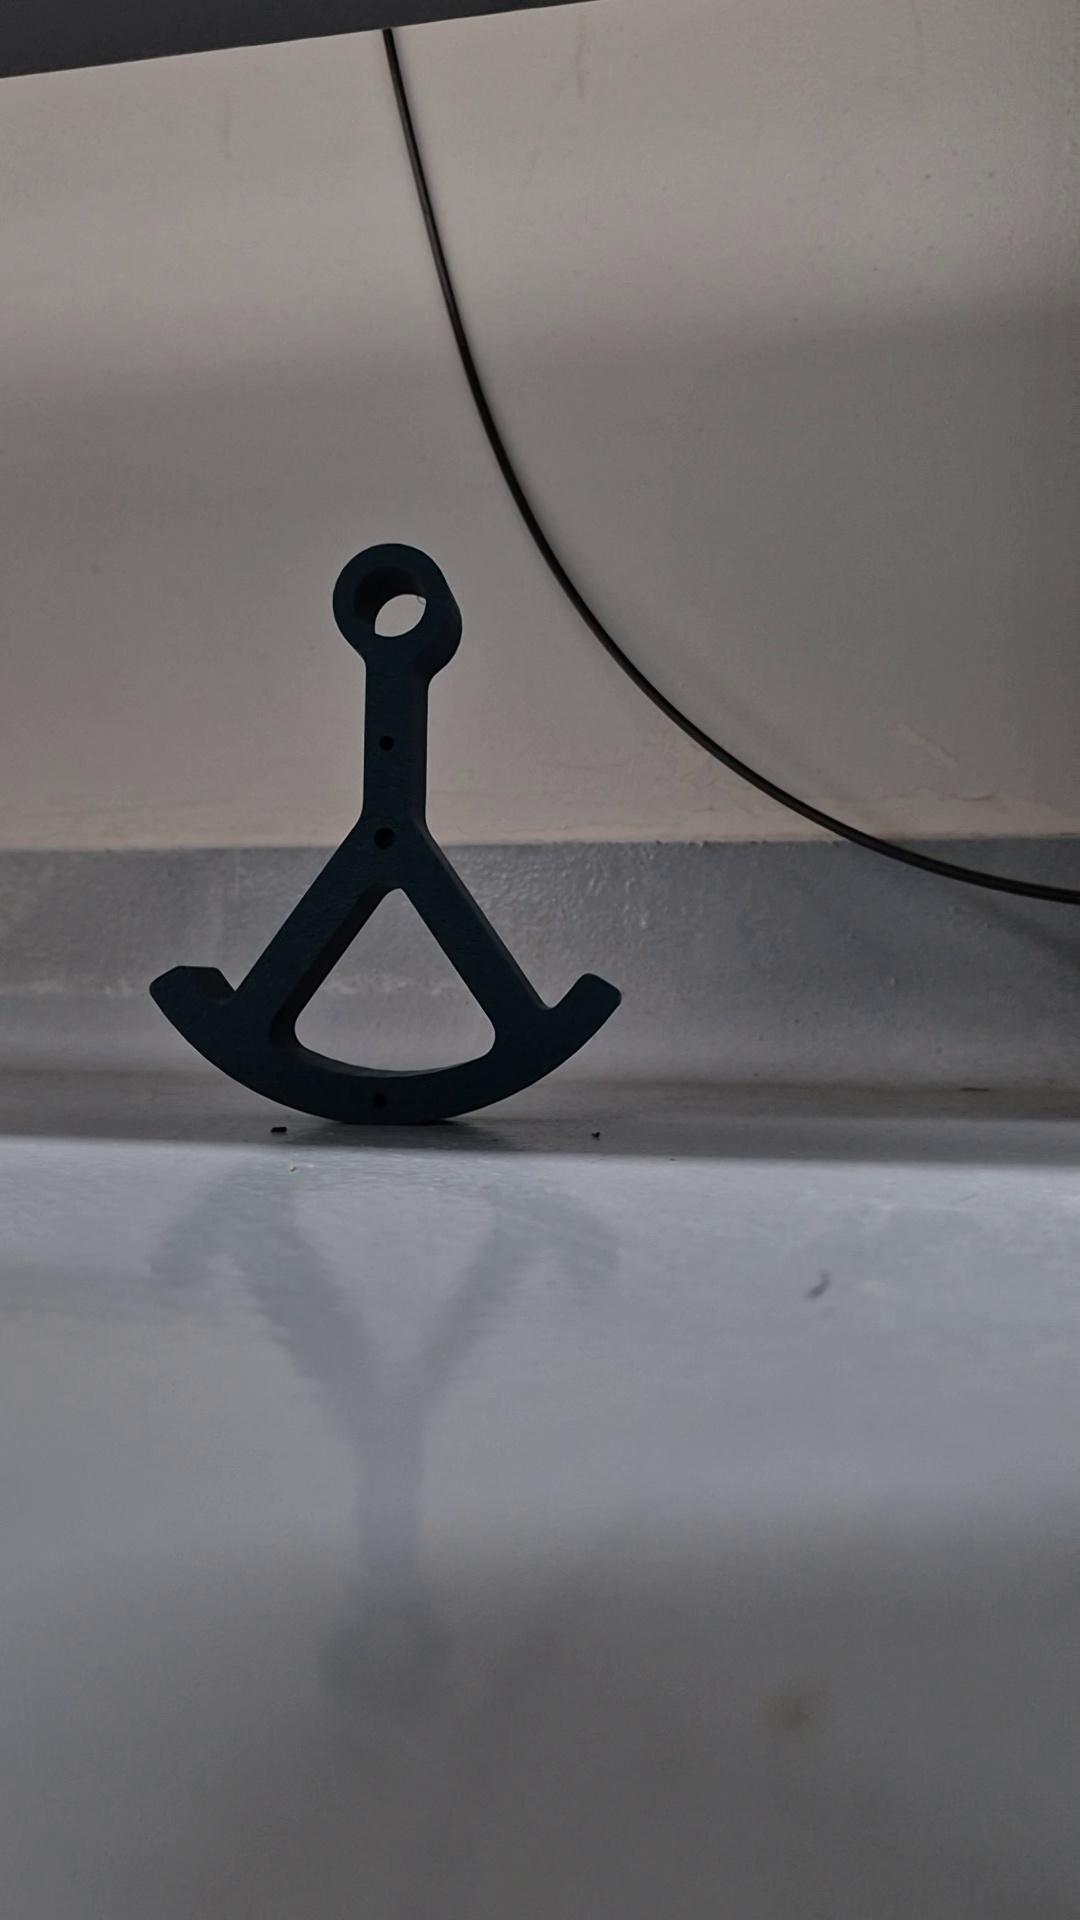Paddles: (145, 541, 625, 1127)
